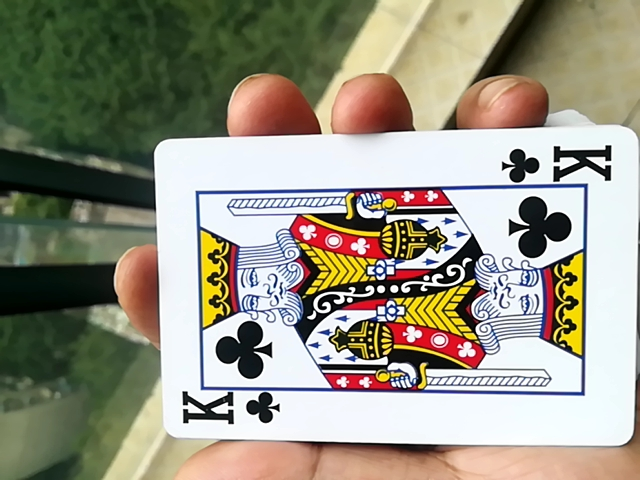mh k: (143, 124, 633, 462)
